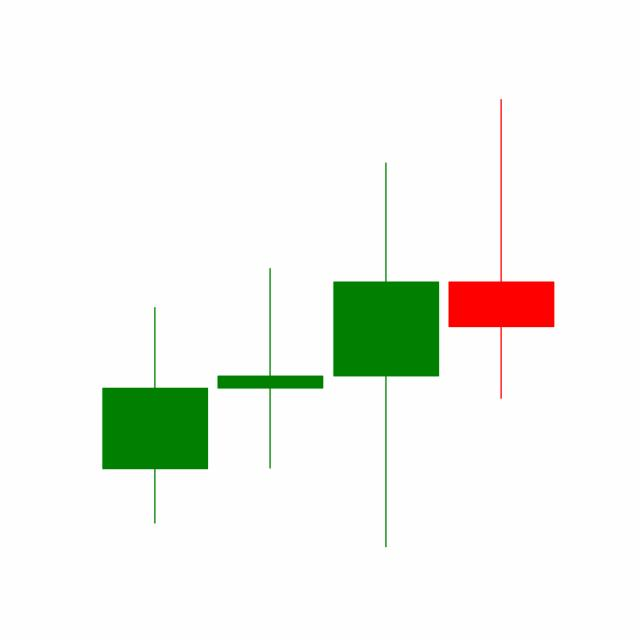Spinning Top: (443, 95, 559, 402)
